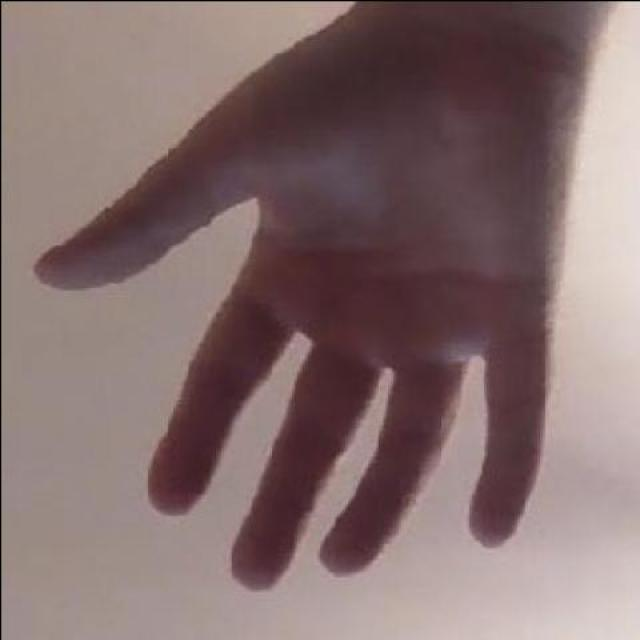Open Hand: (28, 0, 612, 611)
